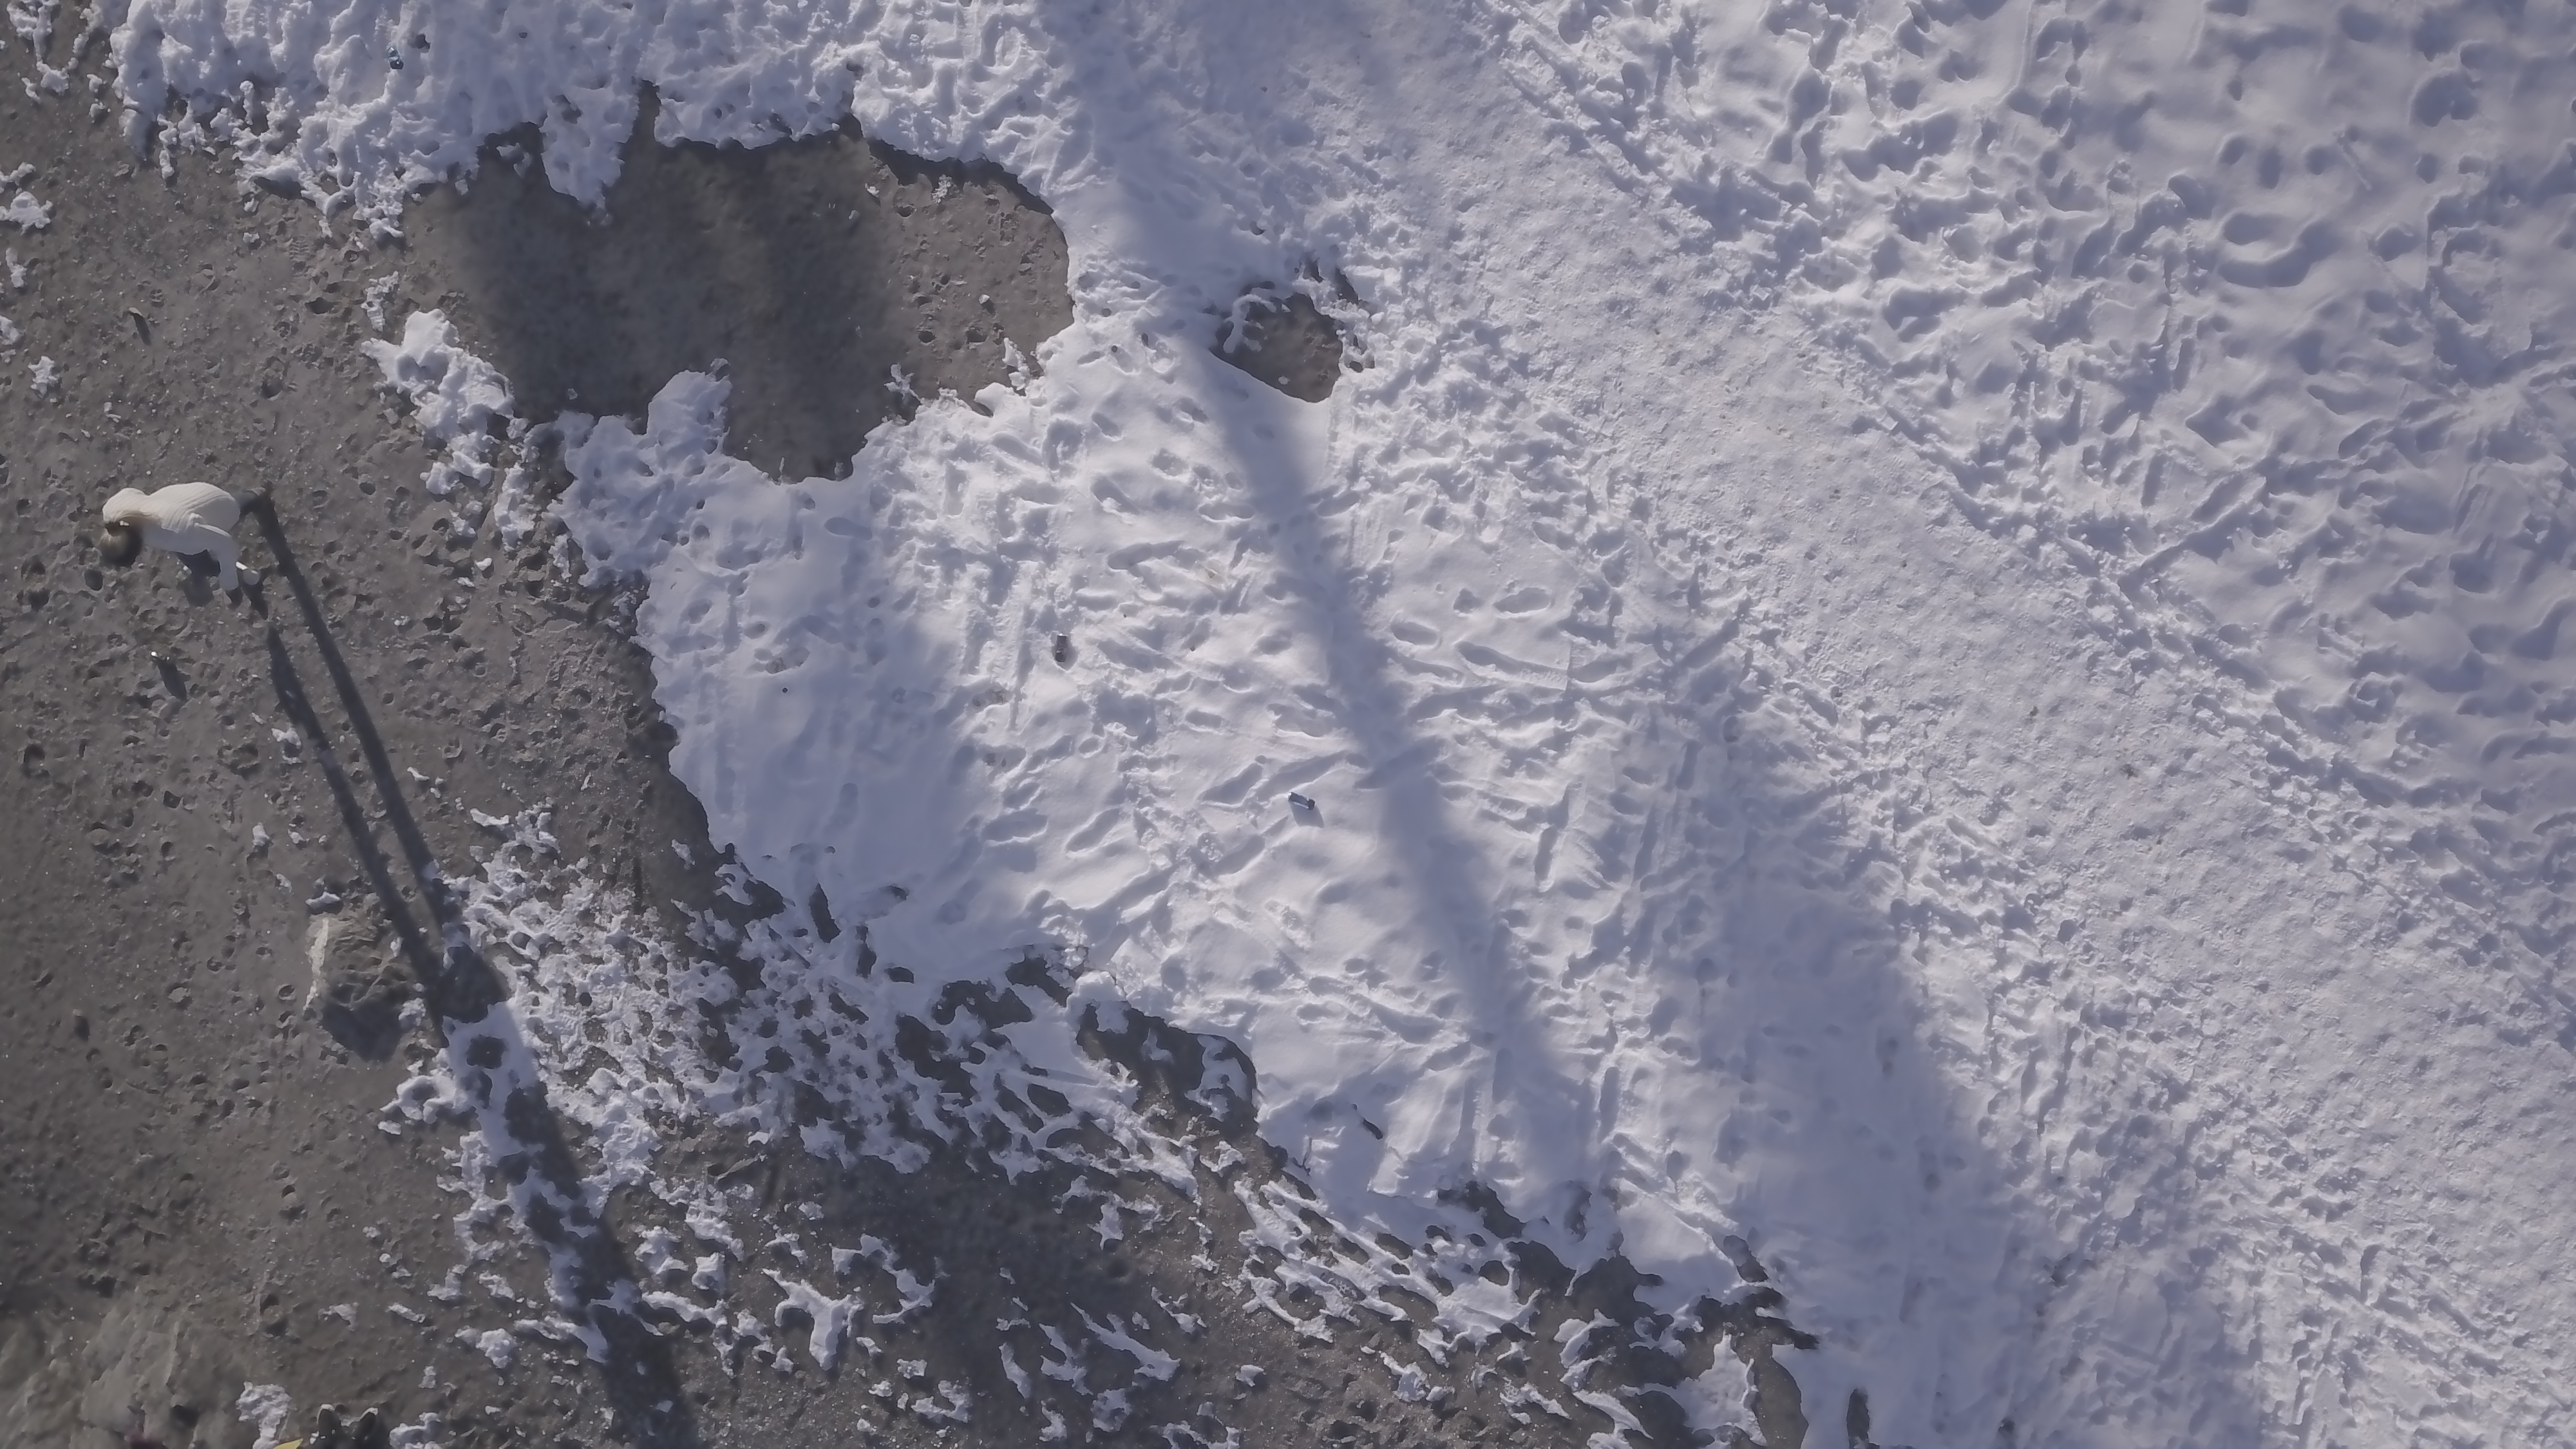Can: (1288, 793, 1318, 812), (1056, 633, 1070, 663)
Other: (387, 48, 405, 71)
